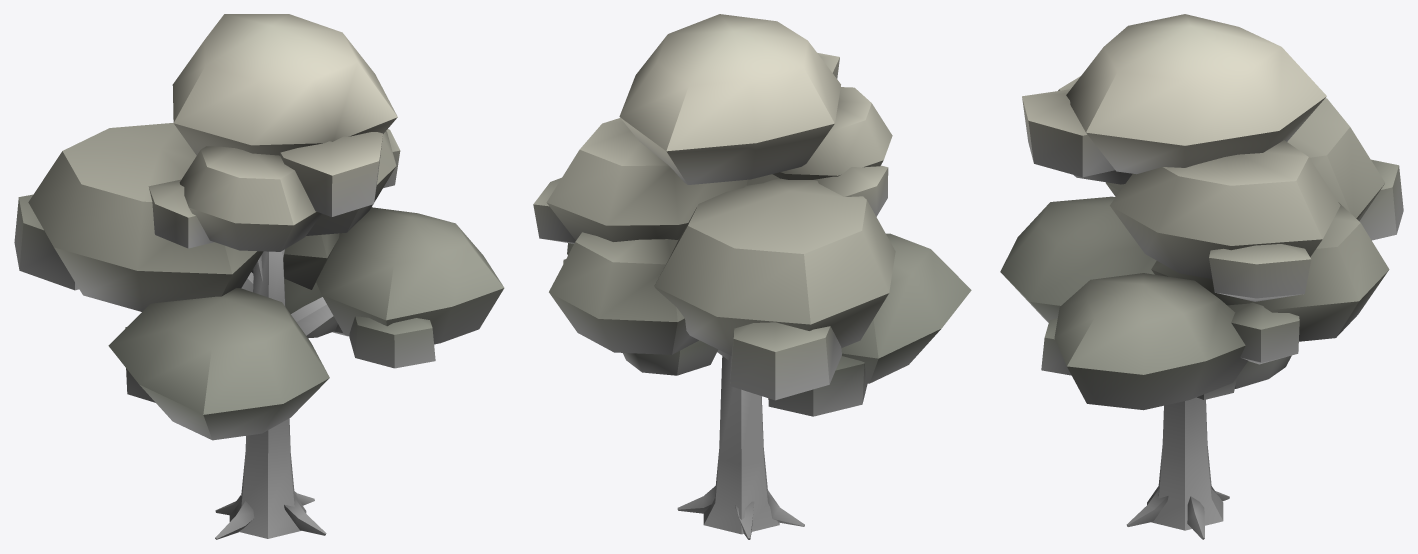
File: beech_a.glb
3 renders of one model, left to right at view 1: azimuth 30°, elevation 25°; view 2: azimuth 150°, elevation 25°; view 3: azimuth 270°, elevation 25°, orthographic.
Visible parts, largest first — view 1: Crown, Trunk; view 2: Crown, Trunk; view 3: Crown, Trunk.
Part boxes in pixels (x1,y1,x2,y2): Crown: (14,14,504,440); Trunk: (215,249,333,539); Crown: (533,14,971,416); Trunk: (677,349,804,539); Crown: (1000,14,1403,410); Trunk: (1126,397,1229,539).
Bounding box in the file's own units: 6 × 7.5 × 5.6.
